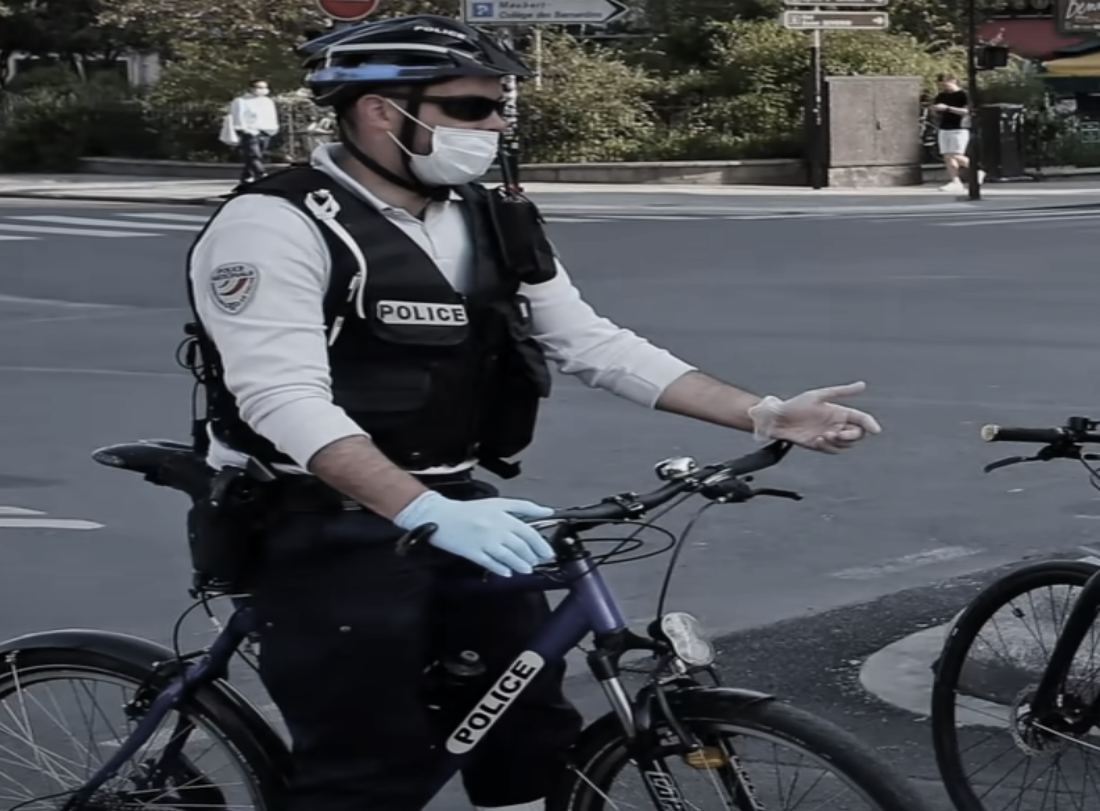mask_weared_incorrect: (317, 22, 516, 196)
